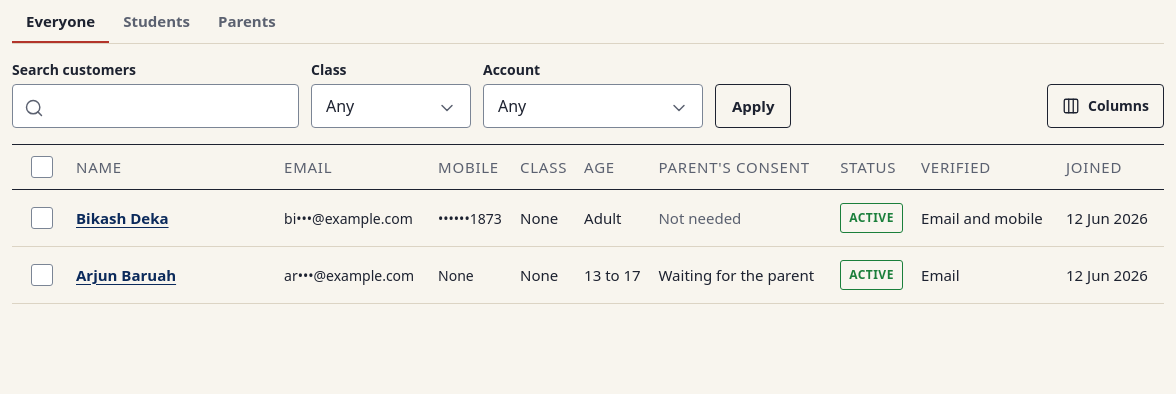
Scenario: a customer's row › can be chosen for the bulk bar only by whoever may run a job and one of its actions
Click the checkbox named "Choose Bikash Deka".
click(42, 218)  # box x1=31 y1=207 x2=53 y2=229
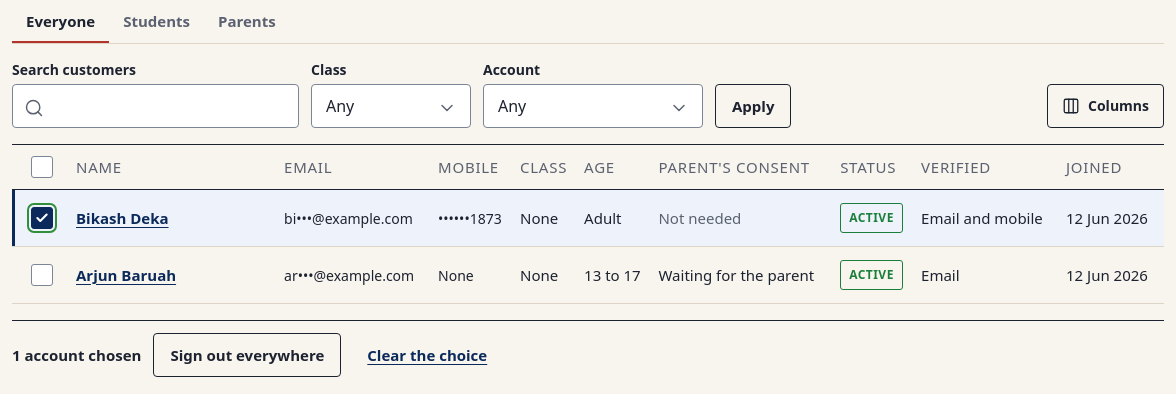
Now the message reads "1 account chosen", box x1=12 y1=345 x2=141 y2=365
Now the button "Sign out everywhere" is shown, box x1=153 y1=333 x2=341 y2=377
